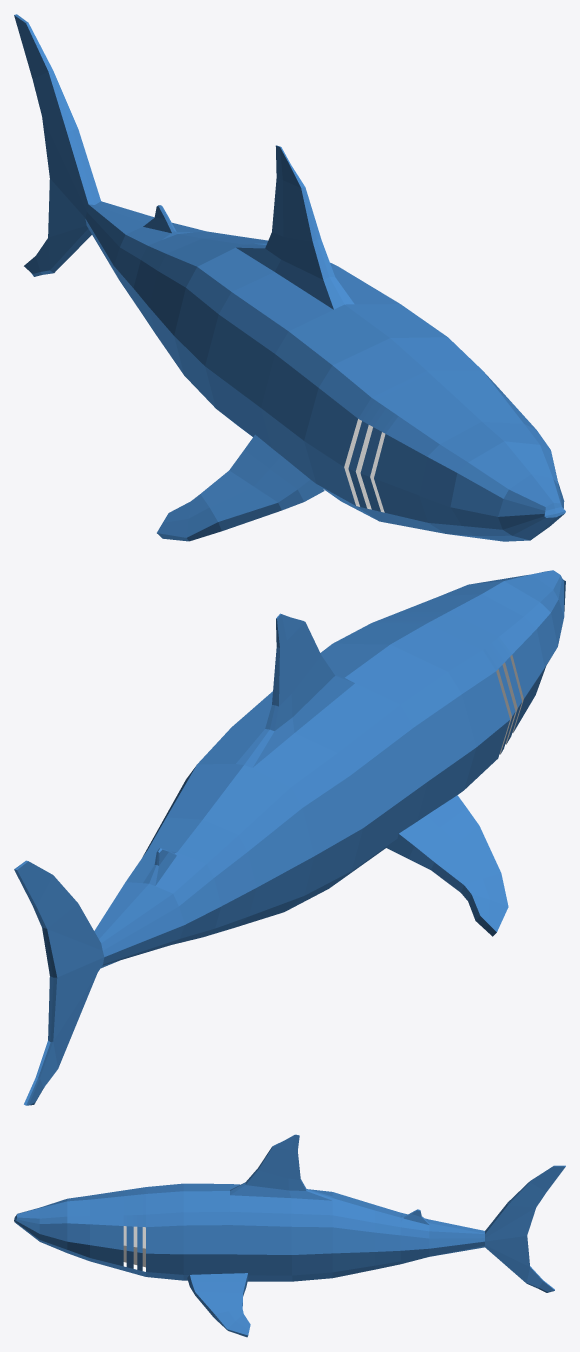
Rendered from shark_lp_2.fbx.
The picture shows the model from 3 angles, top to bottom: view 1: azimuth 30°, elevation 25°; view 2: azimuth 150°, elevation 25°; view 3: azimuth 270°, elevation 25°; orthographic projection. The views are drawn at different scales.
Parts seen in each view (by area): view 1: Shark; view 2: Shark; view 3: Shark.
Part boxes in pixels (x1=…): Shark: x1=14, y1=14, x2=565, y2=541; Shark: x1=14, y1=570, x2=565, y2=1105; Shark: x1=14, y1=1134, x2=565, y2=1337.
Size of the model in its own units: 575 by 512 by 1584.
